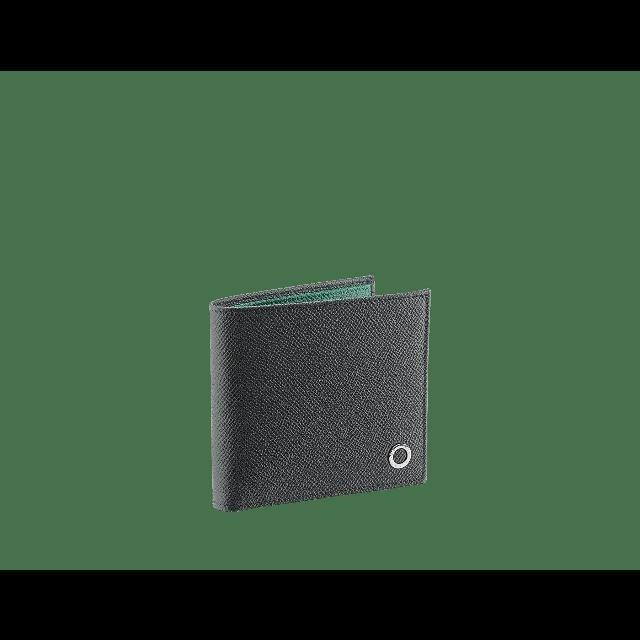Wallet: (210, 272, 430, 512)
